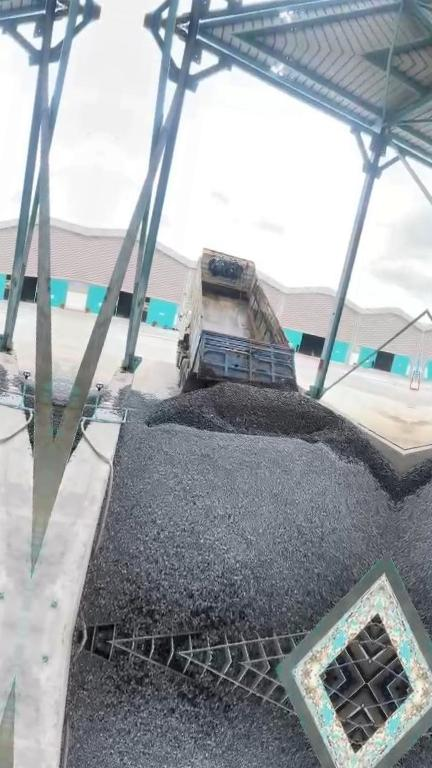gravel: (84, 384, 396, 638), (145, 383, 399, 496), (53, 379, 71, 438)
sand: (380, 411, 408, 449)
